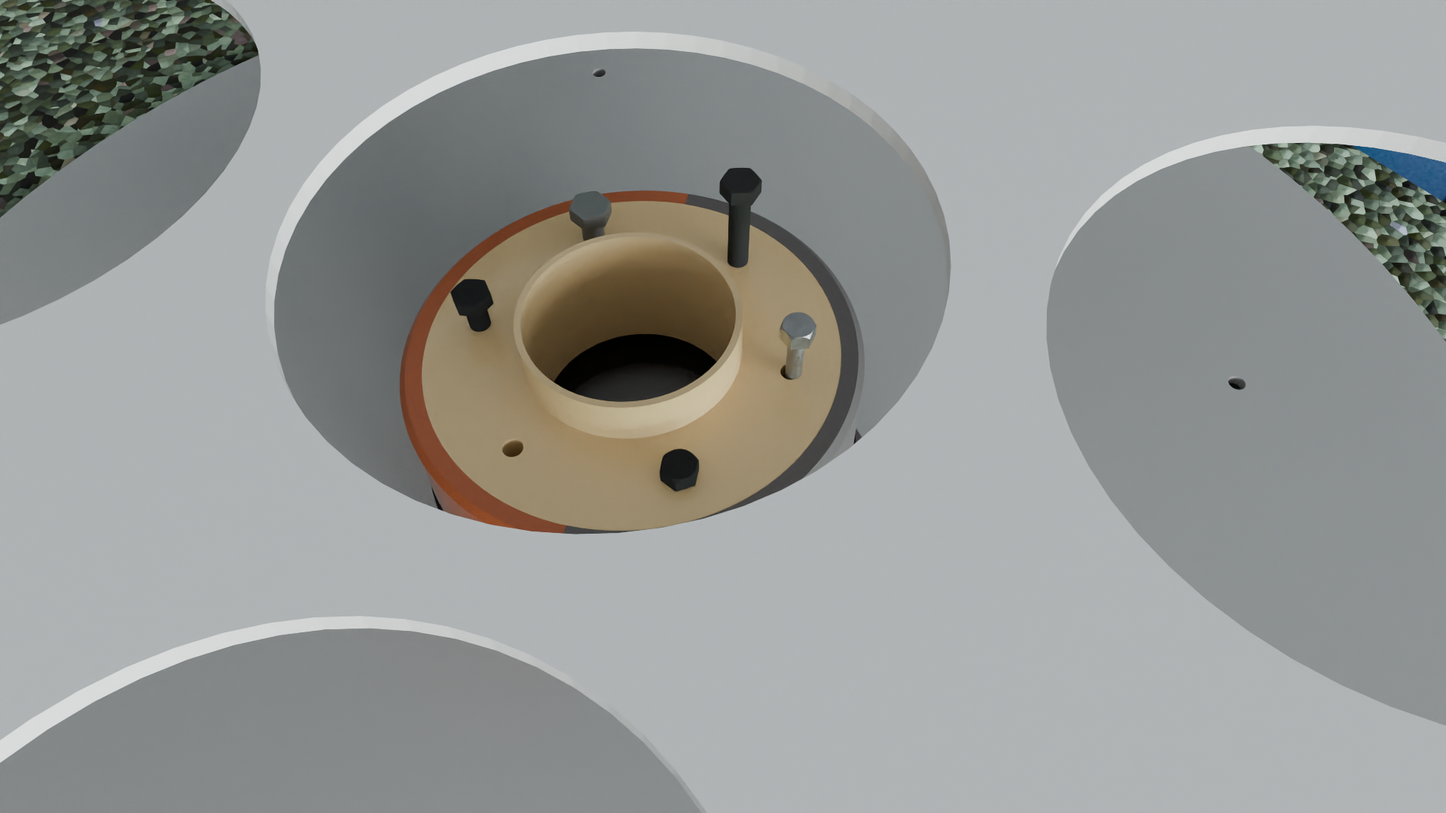bolt: (660, 449, 699, 484), (569, 191, 611, 220), (450, 279, 491, 307), (720, 168, 762, 195), (779, 312, 816, 340)
